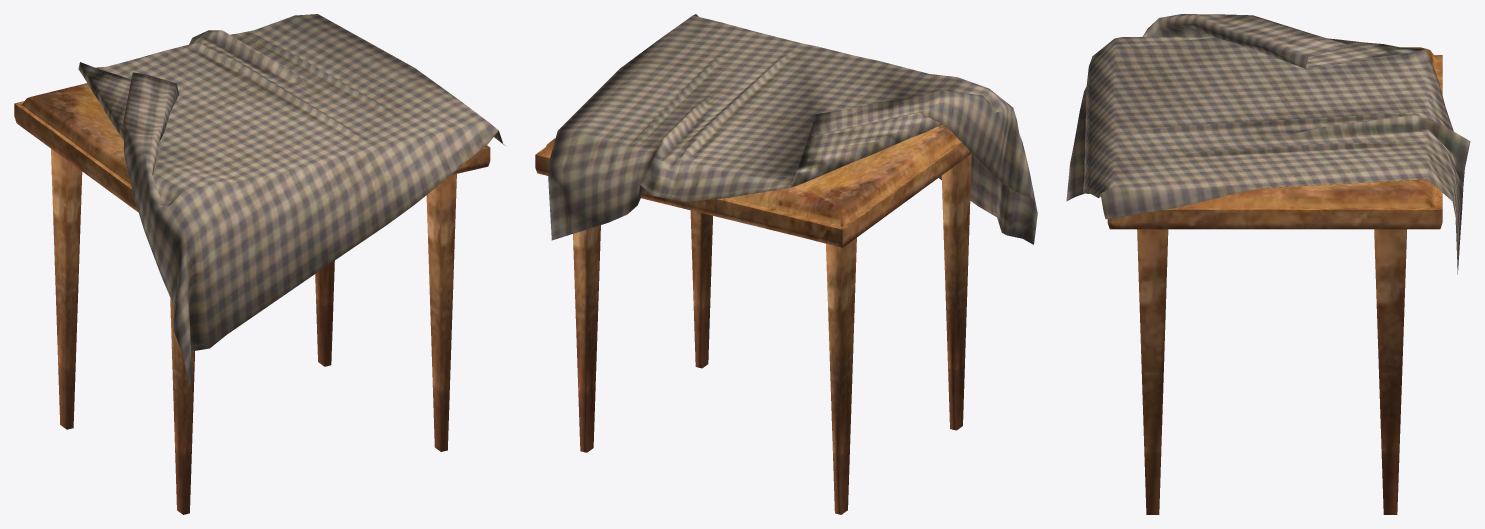
File: ph-dining-table.glb
The picture shows the model from 3 angles, left to right: view 1: azimuth 30°, elevation 25°; view 2: azimuth 150°, elevation 25°; view 3: azimuth 270°, elevation 25°; orthographic projection. The views are drawn at different scales.
Parts seen in each view (by area): view 1: dining_table; view 2: dining_table; view 3: dining_table.
Part boxes in pixels (x1,y1,x2,y2): dining_table: (14, 14, 505, 514); dining_table: (535, 14, 1037, 514); dining_table: (1066, 14, 1470, 514).
Size of the model in its own units: 1 by 1 by 1.
Materials: 1 (1 with a texture image).
